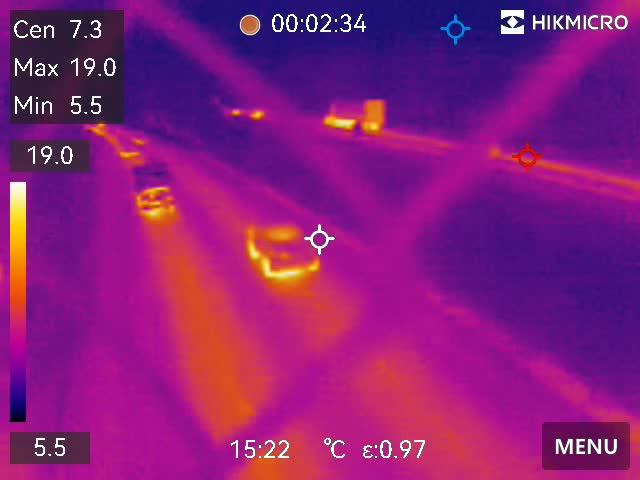heavyTruck: (320, 98, 388, 132)
vehicle: (246, 212, 322, 279), (131, 157, 181, 229)
